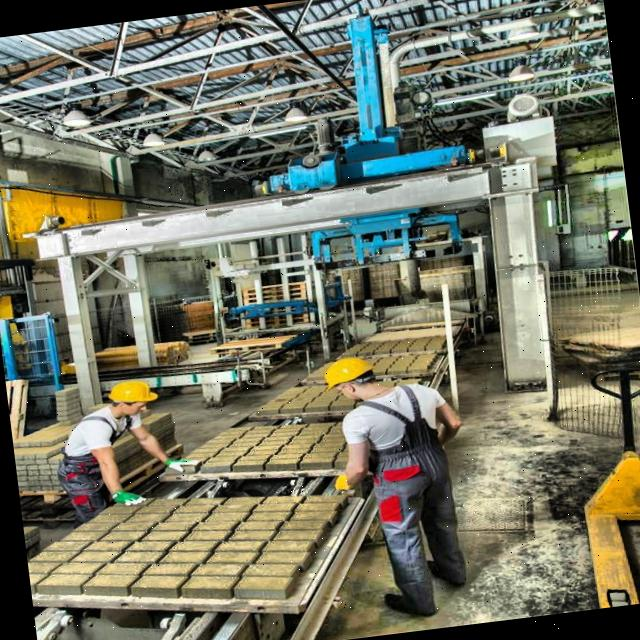helmet: (322, 352, 378, 400), (105, 378, 163, 418)
